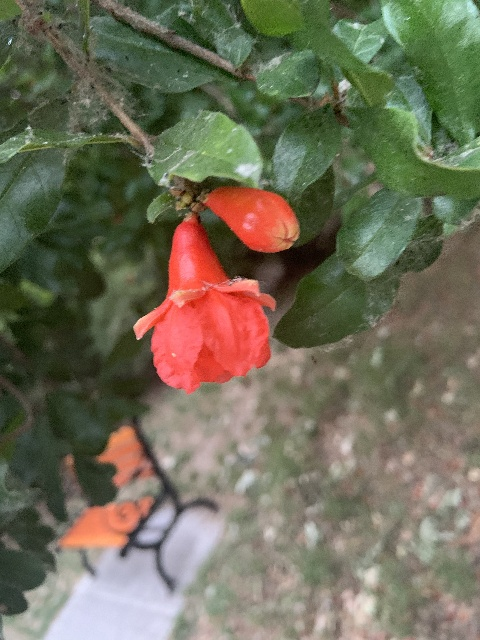bud: (200, 186, 300, 254)
flower: (133, 214, 275, 394)
